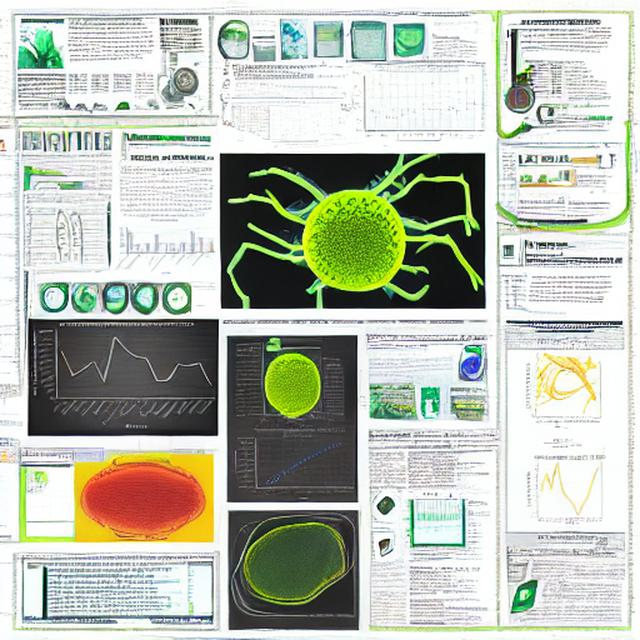Graph: (32, 319, 219, 430), (230, 425, 358, 502), (349, 69, 477, 144), (514, 451, 623, 526), (112, 212, 217, 278), (257, 104, 324, 147)
